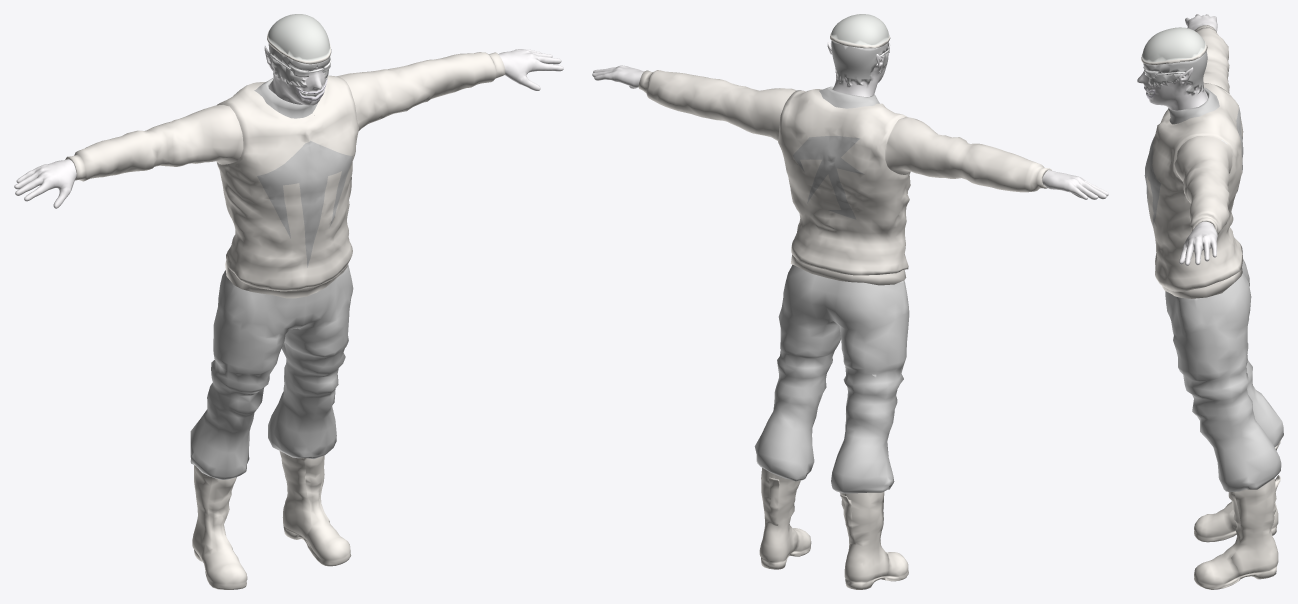
The model's file is partsevenmodel.dae.
3 views of the same model, side by side, from view 1: azimuth 30°, elevation 25°; view 2: azimuth 150°, elevation 25°; view 3: azimuth 270°, elevation 25° (orthographic). The views are drawn at different scales.
Parts seen in each view (by area): view 1: Ch35; view 2: Ch35; view 3: Ch35.
Part boxes in pixels (x1,y1,x2,y2): Ch35: (14, 14, 563, 589); Ch35: (592, 14, 1108, 589); Ch35: (1137, 14, 1283, 589).
Bounding box in the file's own units: 1.54 × 0.3835 × 1.53.
2 materials, 2 textured.
